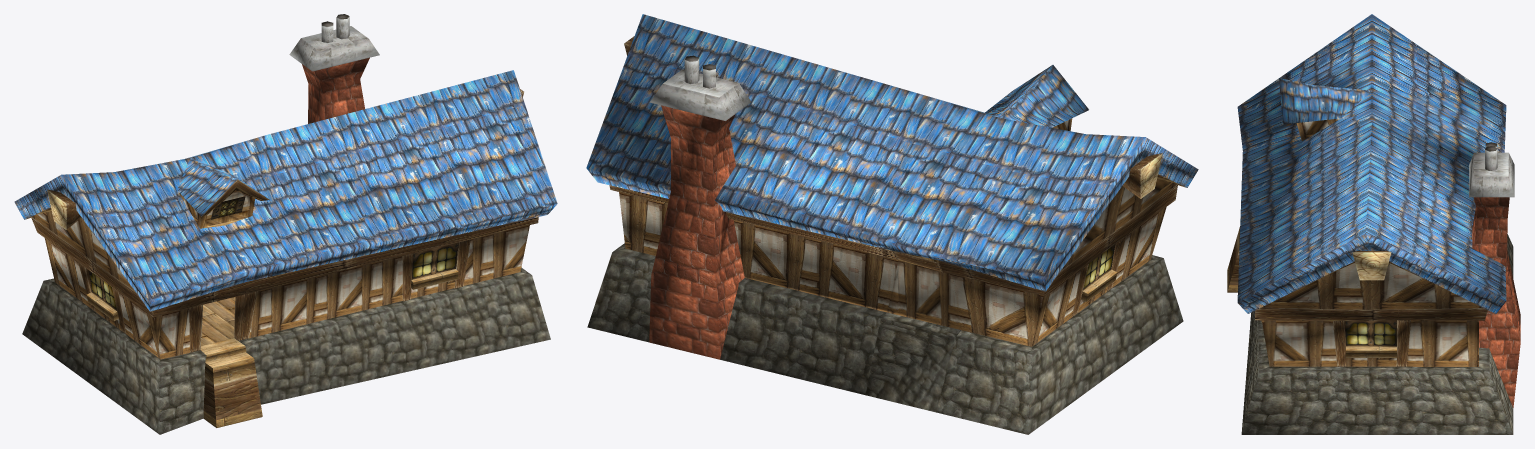
File: large_human_farm.glb
3 renders of one model, left to right at view 1: azimuth 30°, elevation 25°; view 2: azimuth 150°, elevation 25°; view 3: azimuth 270°, elevation 25°, orthographic. The views are drawn at different scales.
Size of the model in its own units: 32.34 by 16.88 by 18.19.
14 materials, 14 textured.
